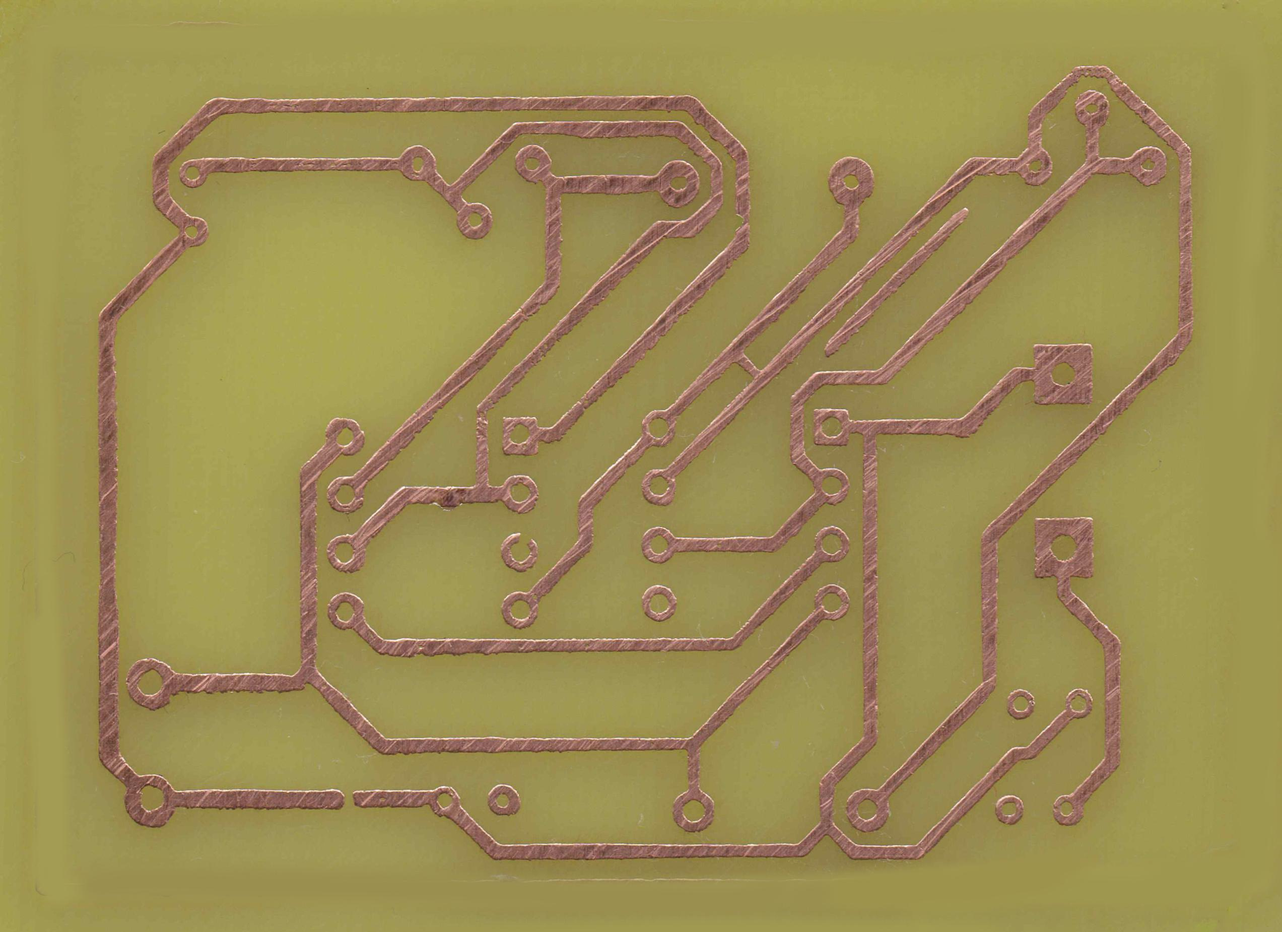missing_hole: (500, 530, 539, 573)
mouse_bite: (729, 208, 755, 236)
open_circuit: (331, 787, 364, 814)
short: (717, 337, 768, 388)
spur: (432, 486, 462, 512)
spurious_copper: (824, 205, 973, 359)
